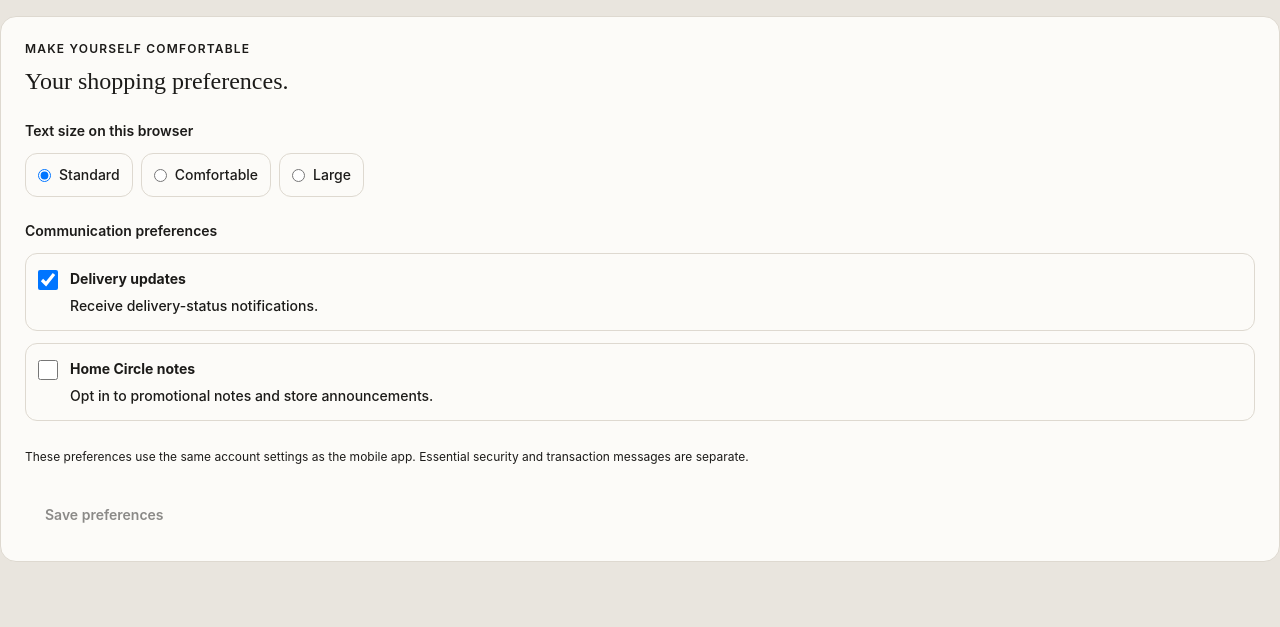
account preference journeys › loads only the signed-in owner's settings and saves explicit consent
The width and height of the screenshot is (1280, 627).
Expected: the button "Save preferences" is disabled, [25, 493, 184, 537]
Click the 2nd checkbox at [48, 370], box [38, 360, 58, 380]
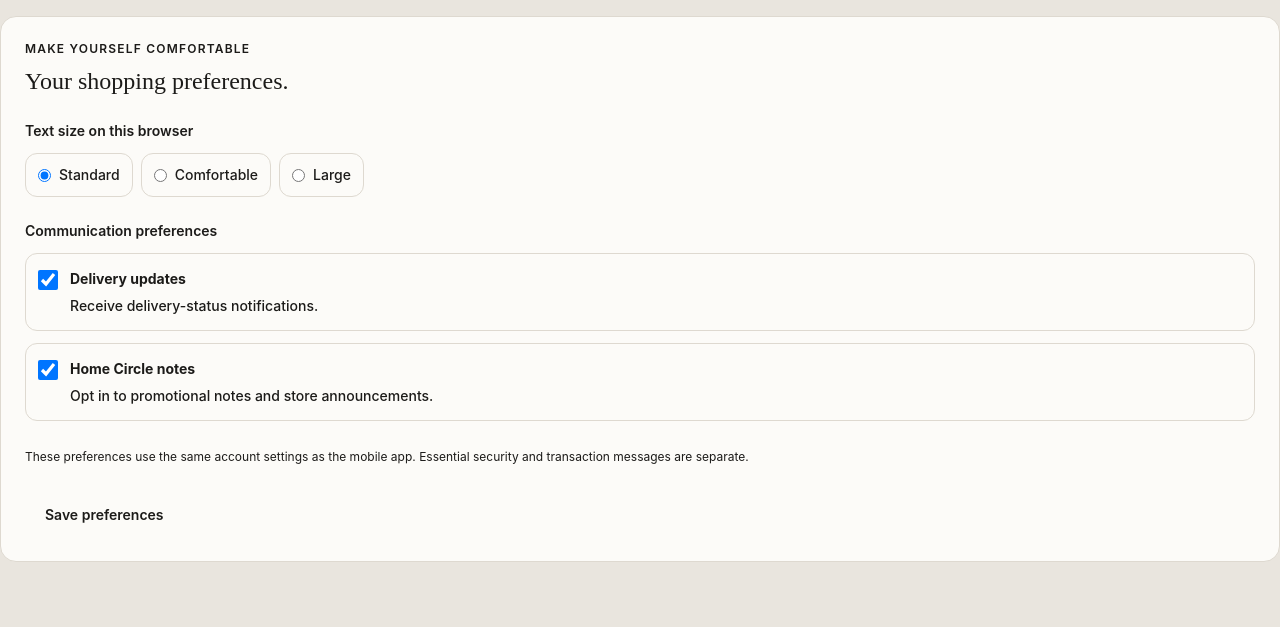
Click the button "Save preferences" at [104, 515], box [25, 493, 184, 537]
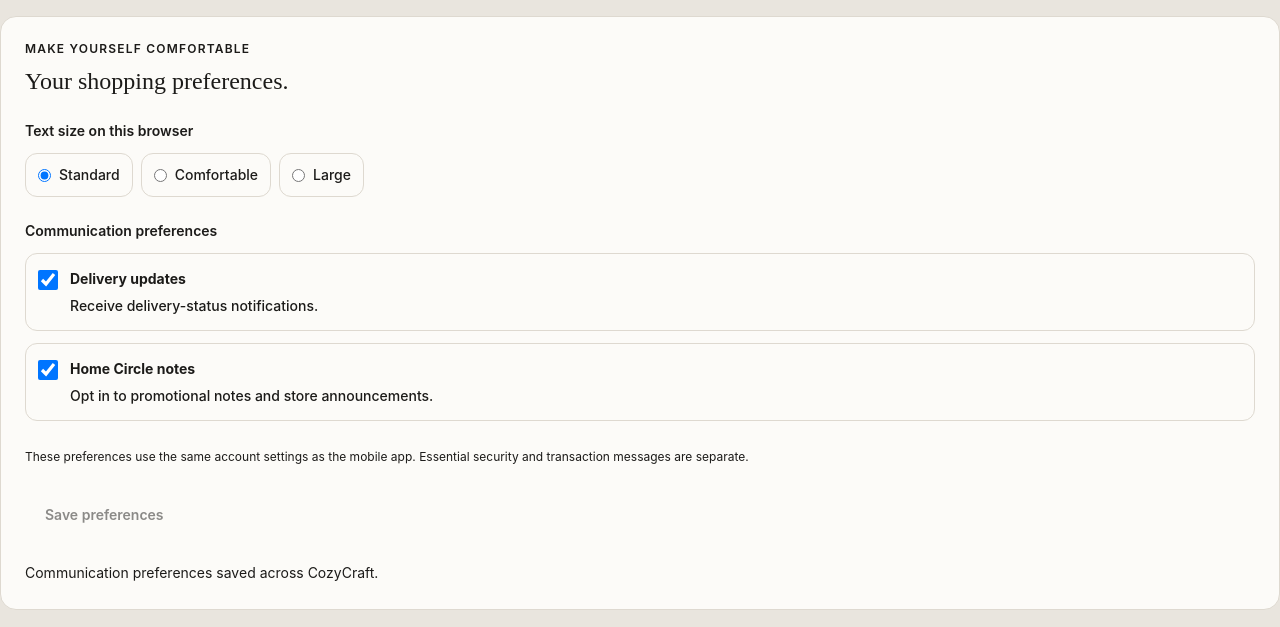
Result: the text "preferences saved" is shown at [25, 564, 378, 581]
Result: the button "Save preferences" is disabled at [25, 493, 184, 537]
